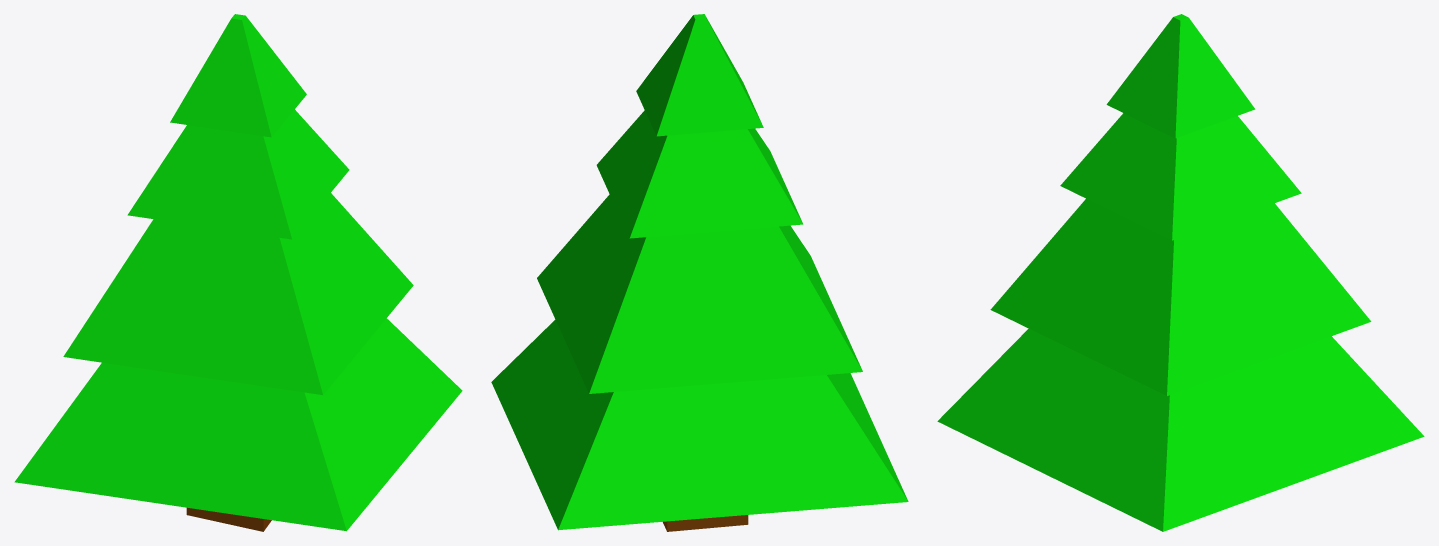
Rendered from jelka 4.fbx.
The picture shows the model from 3 angles, left to right: view 1: azimuth 30°, elevation 25°; view 2: azimuth 150°, elevation 25°; view 3: azimuth 270°, elevation 25°; orthographic projection. The views are drawn at different scales.
Parts seen in each view (by area): view 1: Cube.008; view 2: Cube.008; view 3: Cube.008.
Boxes of the visible parts, bbox=[...] form: Cube.008: bbox=[14, 14, 462, 531]; Cube.008: bbox=[491, 14, 908, 531]; Cube.008: bbox=[937, 14, 1424, 531].
Size of the model in its own units: 537 by 588 by 537.
